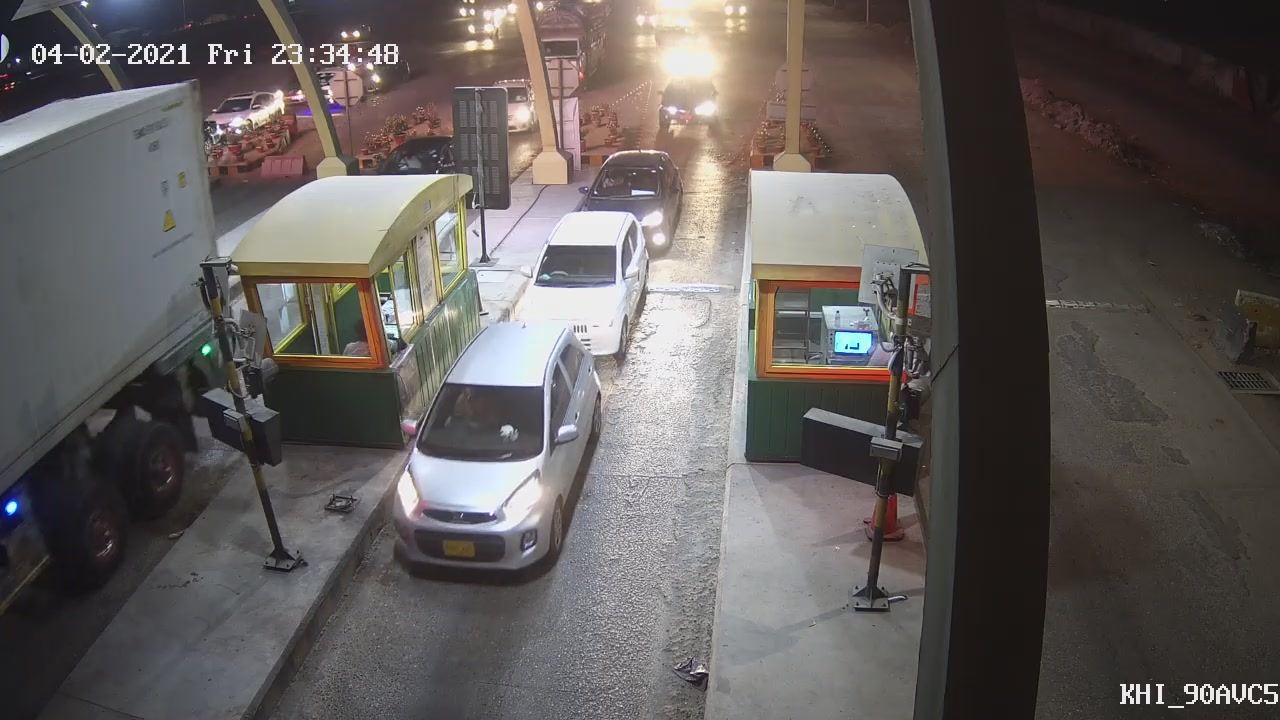F1: (381, 318, 609, 578)
